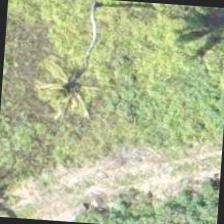Kelapa_Sawit: (26, 50, 122, 146)
